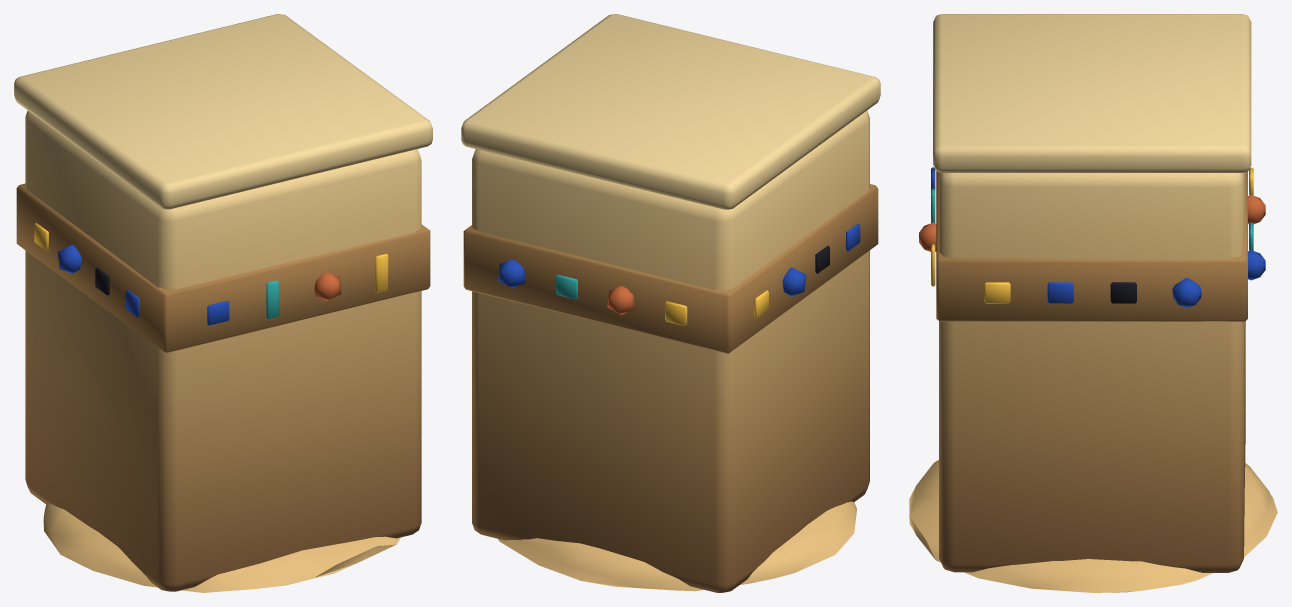
Rendered from SandBlockA.fbx.
3 views of the same model, side by side, from view 1: azimuth 30°, elevation 25°; view 2: azimuth 150°, elevation 25°; view 3: azimuth 270°, elevation 25° (orthographic). The views are drawn at different scales.
Parts seen in each view (by area): view 1: SandBlockA; view 2: SandBlockA; view 3: SandBlockA.
Part boxes in pixels (x1,y1,x2,y2): SandBlockA: (14, 14, 432, 592); SandBlockA: (461, 14, 880, 592); SandBlockA: (909, 14, 1277, 592).
Size of the model in its own units: 1.79 by 2.19 by 1.69.
1 material, 1 textured.
